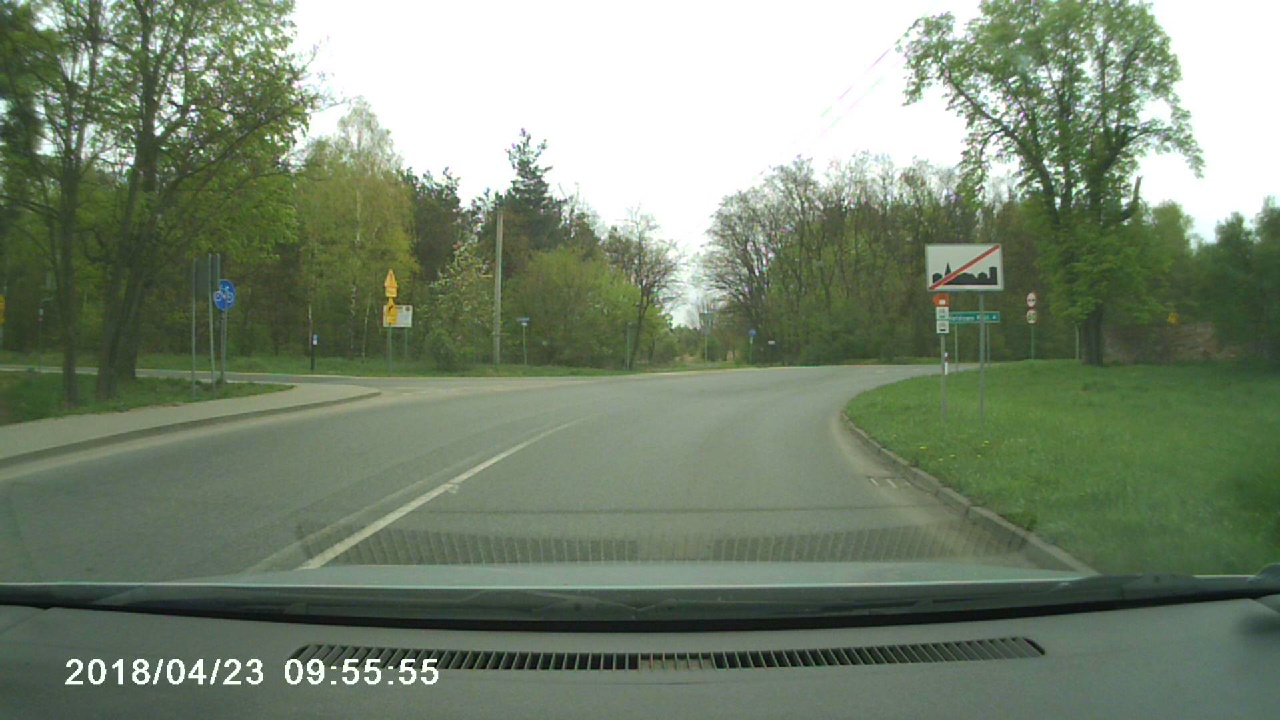D43: (925, 242, 1004, 292)
